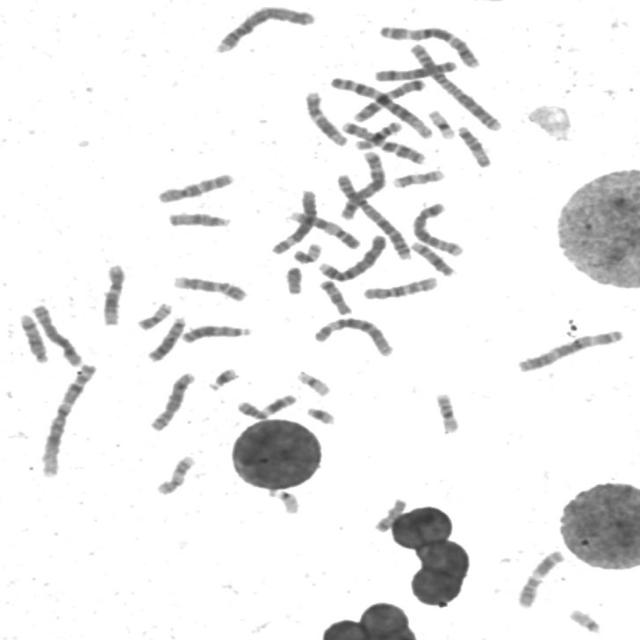A1: (36, 360, 99, 480), (326, 74, 434, 140)
A2: (406, 38, 504, 132), (332, 170, 413, 260)
A3: (512, 325, 628, 373), (376, 21, 483, 69)
B4: (211, 2, 318, 55), (314, 230, 390, 283)
B5: (336, 147, 388, 220), (409, 199, 466, 258)
C10: (154, 169, 237, 205), (359, 272, 441, 302)
C11: (513, 546, 567, 609), (234, 390, 298, 421)
C12: (301, 87, 350, 147), (98, 260, 128, 327)
C6: (310, 313, 397, 358), (268, 186, 320, 255)
C7: (339, 117, 429, 165), (349, 76, 428, 123)
C8: (27, 299, 86, 368), (146, 368, 198, 433)
C9: (285, 207, 363, 251), (170, 272, 250, 303)
D13: (143, 313, 188, 363), (177, 320, 254, 344)
D14: (407, 237, 458, 277), (15, 310, 52, 364)
D15: (454, 122, 494, 169), (164, 208, 234, 230)
E16: (352, 117, 405, 151), (432, 389, 463, 435)
E17: (152, 451, 198, 496), (389, 165, 447, 189)
E18: (315, 276, 355, 316), (371, 495, 409, 533)
F19: (292, 366, 334, 398), (425, 106, 457, 140)
F20: (133, 299, 175, 331), (290, 239, 324, 264)
G21: (204, 364, 242, 392), (302, 403, 338, 426)
G22: (565, 605, 604, 634), (266, 485, 302, 515)
X: (372, 57, 459, 82)
Y: (282, 263, 305, 296)
